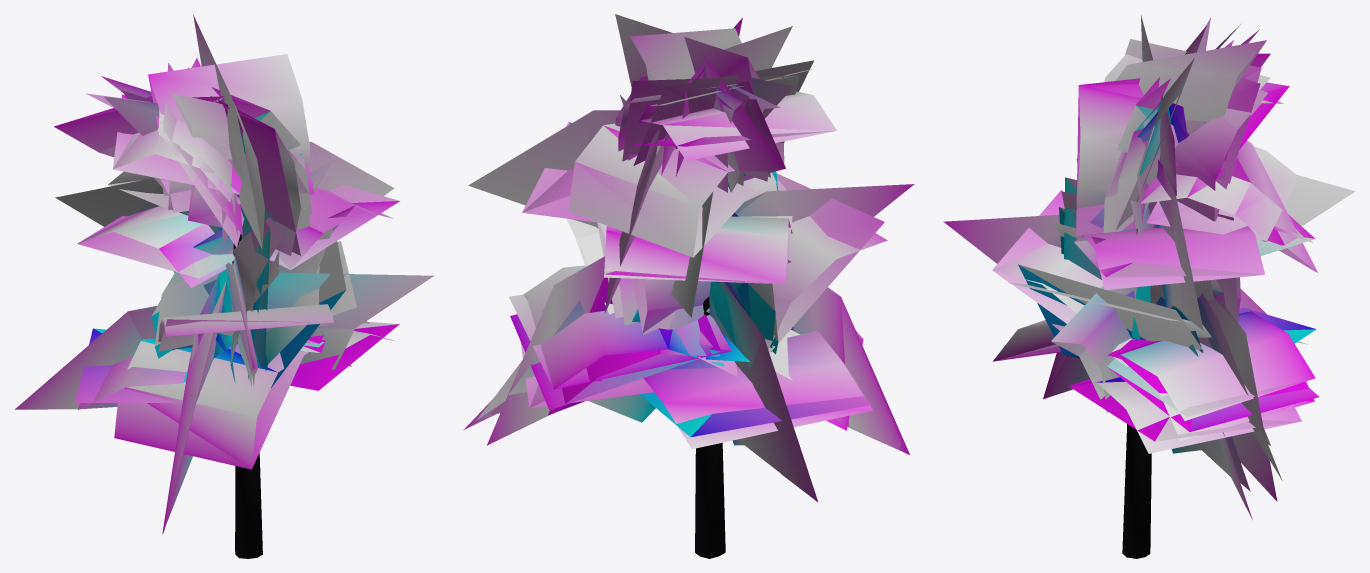
File: ekasia_tumula_01_b.dae
3 views of the same model, side by side, from view 1: azimuth 30°, elevation 25°; view 2: azimuth 150°, elevation 25°; view 3: azimuth 270°, elevation 25° (orthographic). The views are drawn at different scales.
Visible parts, largest first — view 1: ekasia160, ekasia80; view 2: ekasia160, ekasia80; view 3: ekasia160, ekasia80.
Boxes of the visible parts, <box> form: ekasia160: <box>15,54,394,558</box>; ekasia80: <box>56,14,433,558</box>; ekasia160: <box>464,23,901,558</box>; ekasia80: <box>468,14,914,558</box>; ekasia160: <box>943,15,1336,558</box>; ekasia80: <box>992,17,1355,547</box>.
Size of what is drawn, in the model's own units: 13.37 by 13.29 by 18.36.
